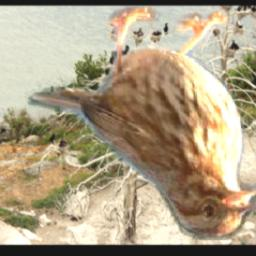Sparrow: (25, 7, 256, 240)
